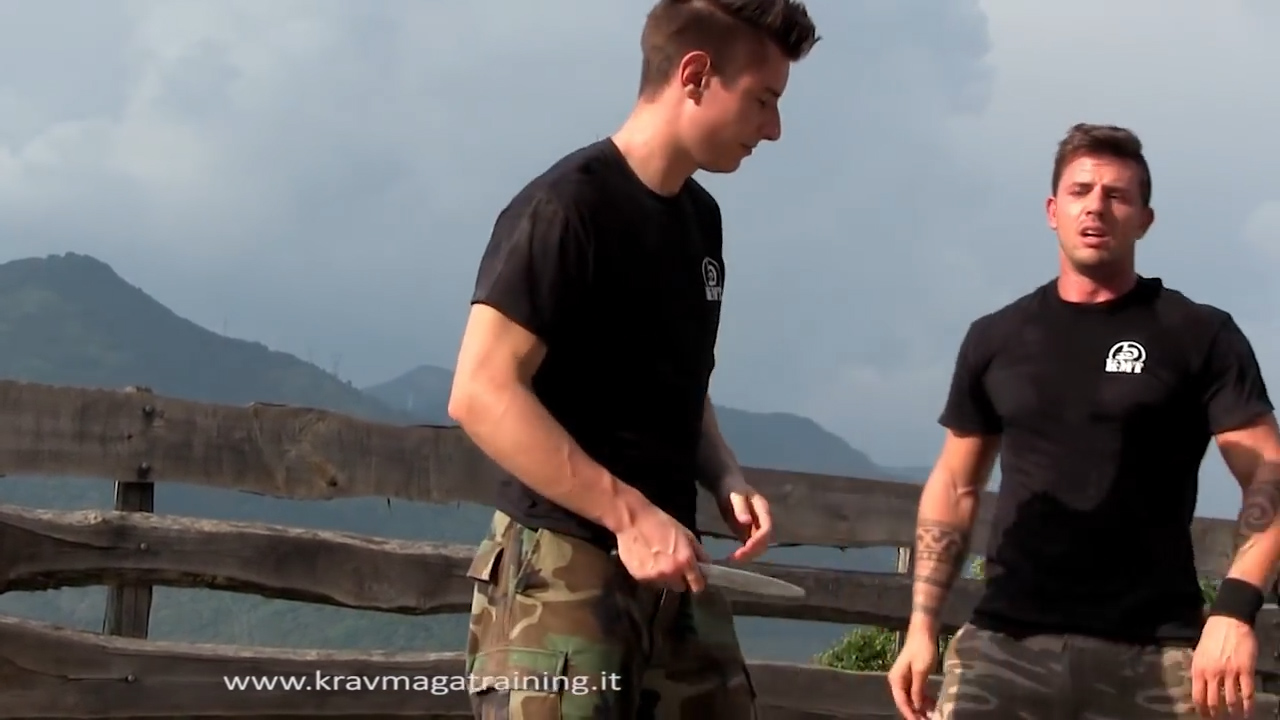knife: (607, 538, 818, 611)
